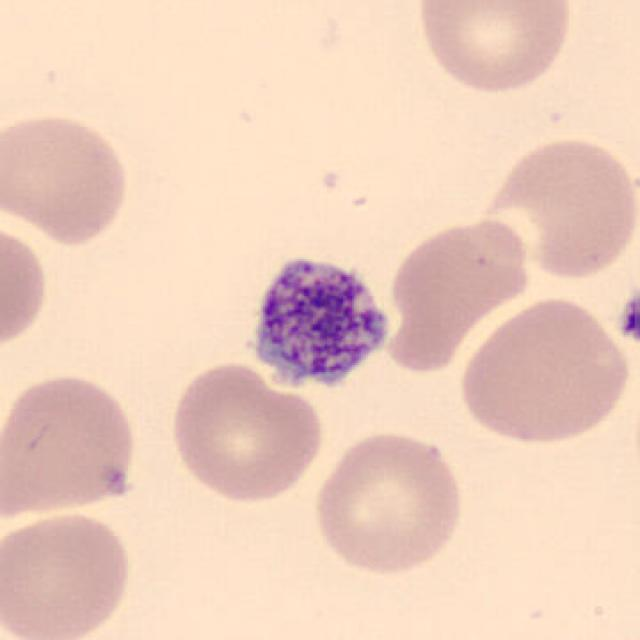Platelets: (254, 255, 384, 389), (615, 288, 640, 348)
RBC: (453, 292, 635, 448), (473, 132, 638, 284), (308, 427, 470, 578), (165, 358, 327, 506), (0, 367, 142, 522), (0, 107, 135, 247), (0, 506, 135, 640), (386, 214, 535, 326), (410, 0, 578, 97), (0, 217, 52, 356)
